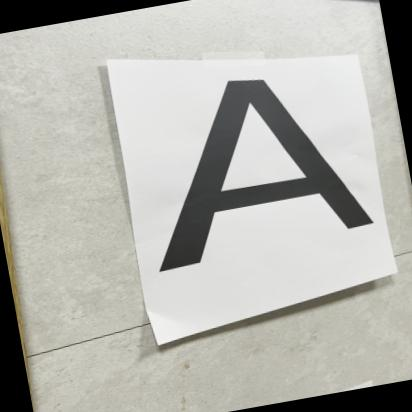seat: (110, 46, 399, 291)
